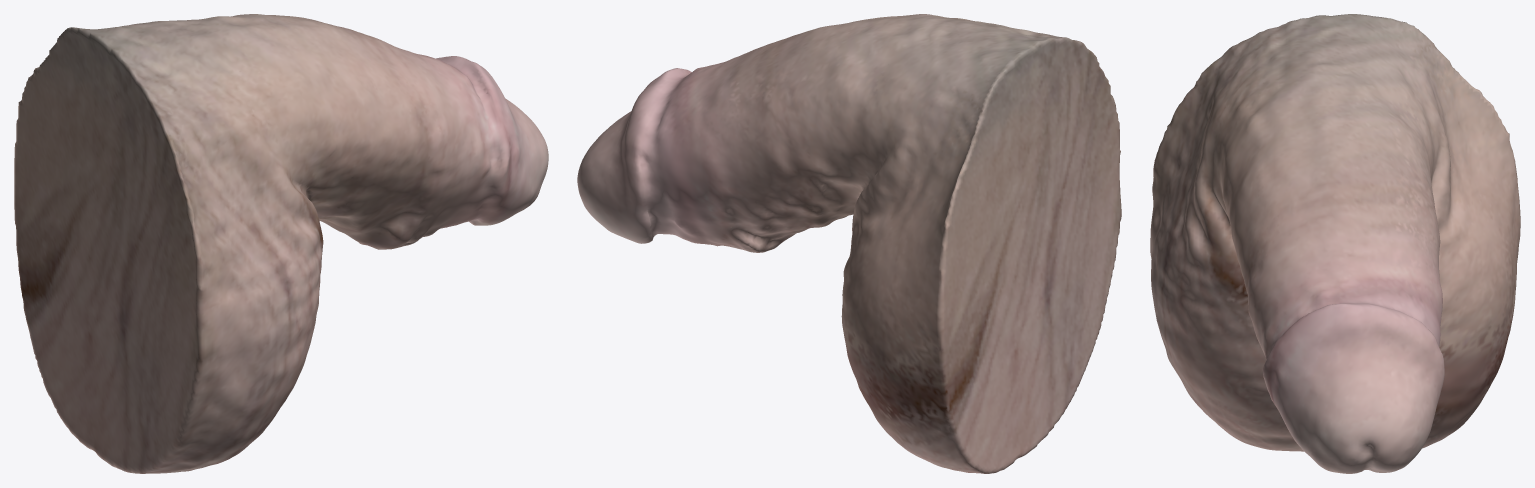
File: trozoba.glb
3 renders of one model, left to right at view 1: azimuth 30°, elevation 25°; view 2: azimuth 150°, elevation 25°; view 3: azimuth 270°, elevation 25°, orthographic. The views are drawn at different scales.
Parts seen in each view (by area): view 1: Object_2; view 2: Object_2; view 3: Object_2.
Part boxes in pixels (x1=…): Object_2: x1=14, y1=14, x2=548, y2=473; Object_2: x1=577, y1=14, x2=1121, y2=473; Object_2: x1=1150, y1=14, x2=1520, y2=473.
Size of the model in its own units: 103 by 92.62 by 74.78.
